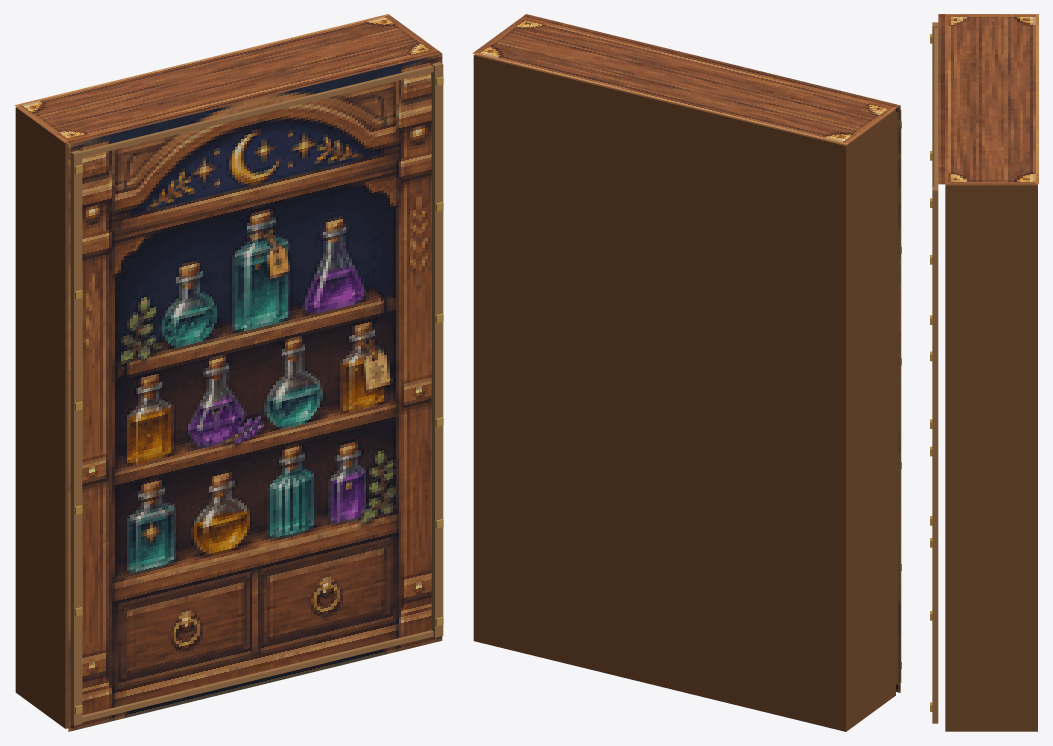
The model's file is potion-cabinet.glb.
3 views of the same model, side by side, from view 1: azimuth 30°, elevation 25°; view 2: azimuth 150°, elevation 25°; view 3: azimuth 270°, elevation 25° (orthographic). The views are drawn at different scales.
Parts seen in each view (by area): view 1: Painted front.001, Carcass.001, Painted top.001; view 2: Carcass.001, Painted top.001, Painted front.001; view 3: Carcass.001, Painted top.001.
Part boxes in pixels (x1=…): Painted front.001: x1=68, y1=53, x2=442, y2=731; Carcass.001: x1=15, y1=62, x2=443, y2=728; Painted top.001: x1=14, y1=14, x2=441, y2=144; Carcass.001: x1=473, y1=54, x2=901, y2=731; Painted top.001: x1=472, y1=14, x2=899, y2=144; Painted front.001: x1=895, y1=105, x2=900, y2=692; Carcass.001: x1=930, y1=22, x2=1037, y2=731; Painted top.001: x1=938, y1=14, x2=1038, y2=184.
Bounding box in the file's own units: 2 × 3 × 0.541.
Materials: 4 (1 with a texture image).
